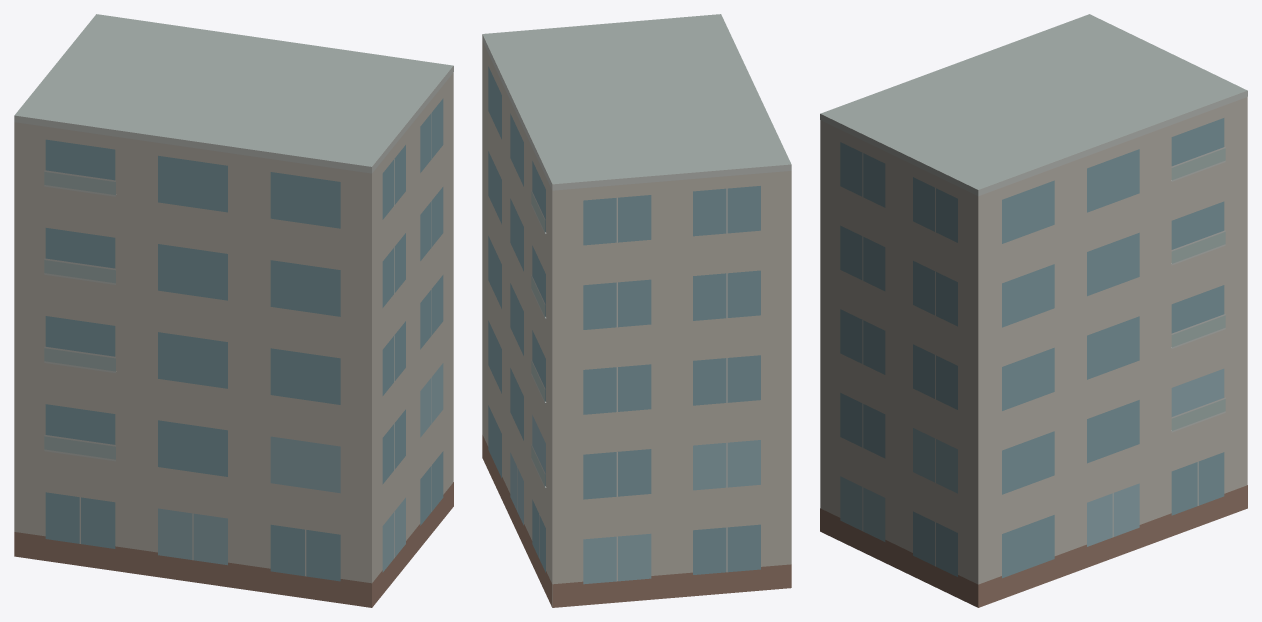
File: survey-upis-32946415.glb
3 renders of one model, left to right at view 1: azimuth 30°, elevation 25°; view 2: azimuth 150°, elevation 25°; view 3: azimuth 270°, elevation 25°, orthographic. The views are drawn at different scales.
Parts seen in each view (by area): view 1: survey-upis-32946415.tmp; view 2: survey-upis-32946415.tmp; view 3: survey-upis-32946415.tmp.
Boxes of the visible parts, x1=… form: survey-upis-32946415.tmp: x1=14, y1=14, x2=453, y2=607; survey-upis-32946415.tmp: x1=482, y1=14, x2=791, y2=607; survey-upis-32946415.tmp: x1=820, y1=14, x2=1247, y2=607.
Bounding box in the file's own units: 14.74 × 16.3 × 15.12.
